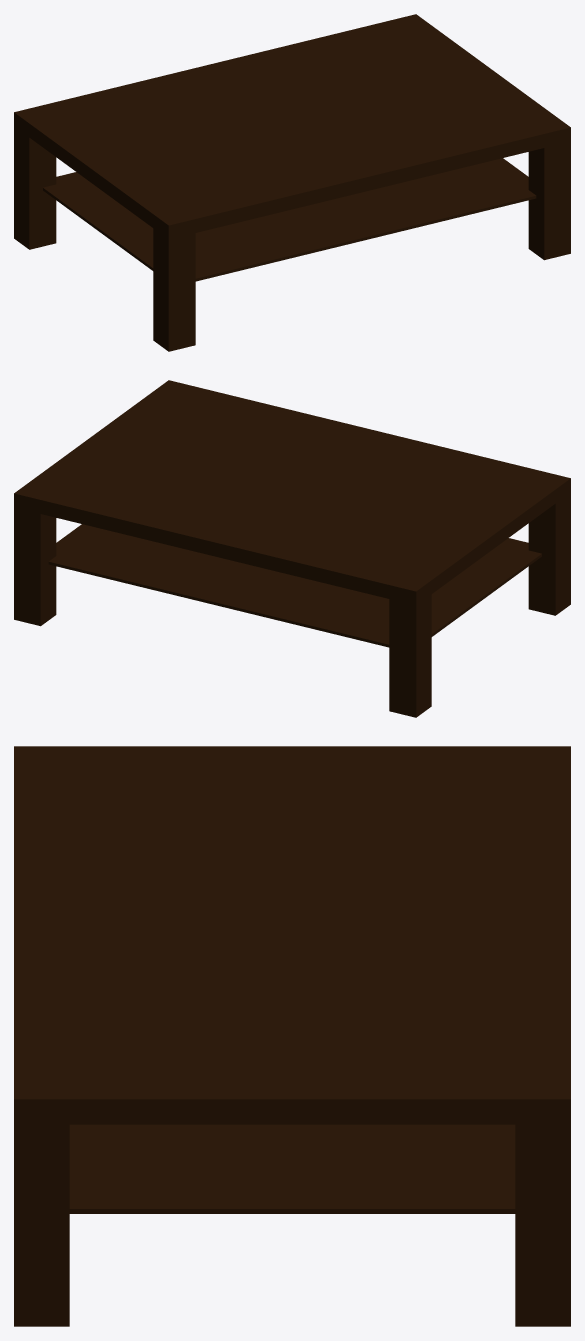
The model's file is coffeetable2.glb.
3 views of the same model, one above another, from view 1: azimuth 30°, elevation 25°; view 2: azimuth 150°, elevation 25°; view 3: azimuth 270°, elevation 25° (orthographic). The views are drawn at different scales.
Parts seen in each view (by area): view 1: Plane; view 2: Plane; view 3: Plane.
Boxes of the visible parts, <box> form: Plane: <box>14,14,570,351</box>; Plane: <box>14,380,570,717</box>; Plane: <box>14,746,570,1326</box>.
Bounding box in the file's own units: 1.5 × 0.45 × 1.
